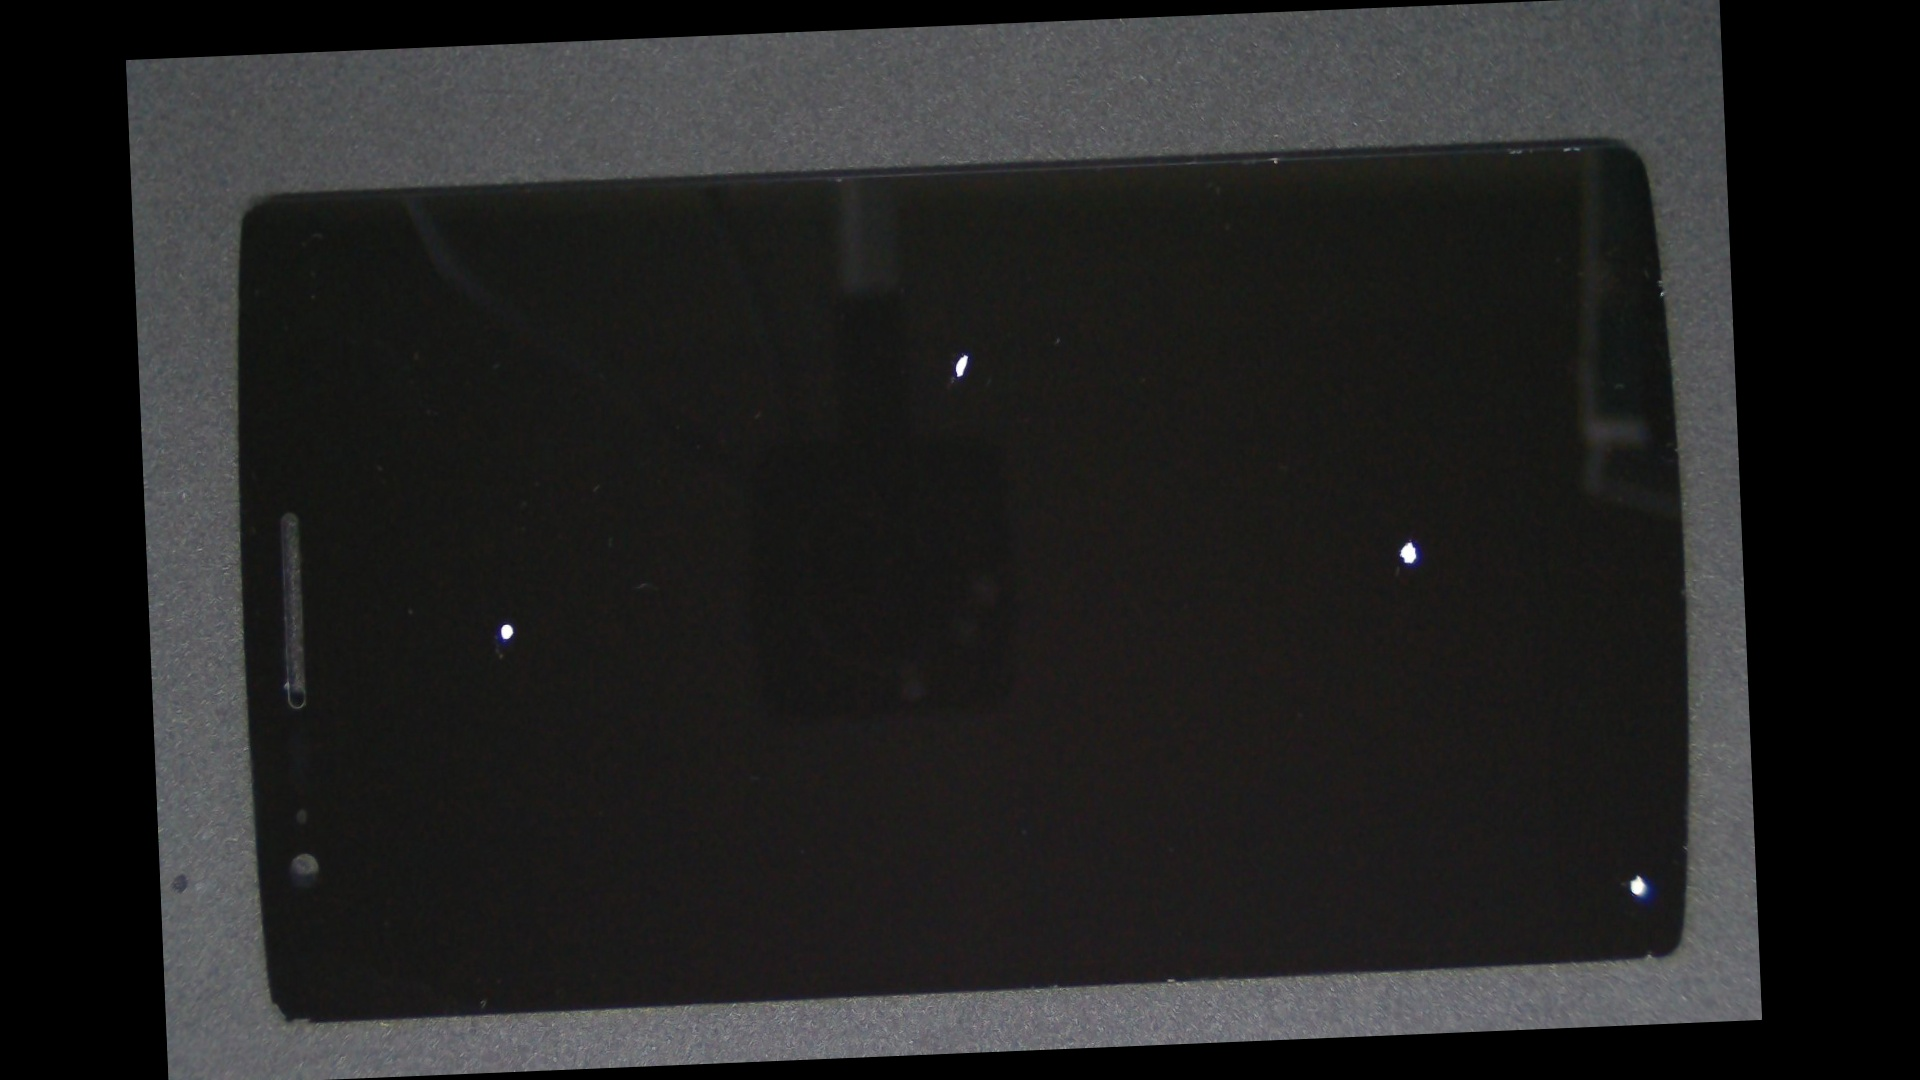oil: (769, 260, 1753, 833), (884, 431, 1762, 1055), (546, 171, 1383, 535), (315, 326, 690, 920)
